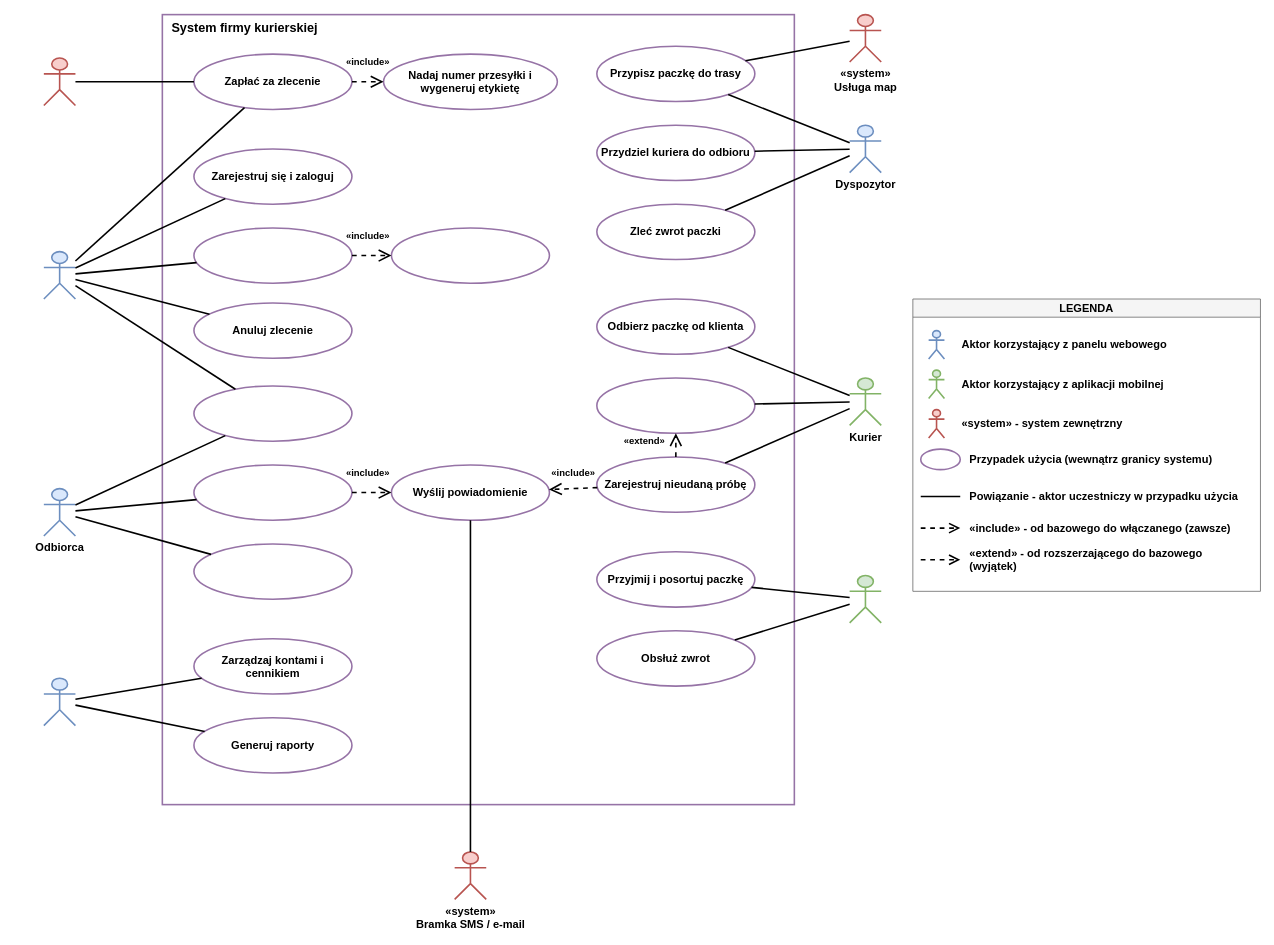
Image size: 1274x945. Some labels were removed from this diagram. Here are the shapes that lost their labels. From the top down, the centre of each, then its label:
the point at 59,81: «system» Bramka płatności
the point at 59,274: Klient (nadawca)
the point at 272,255: Złóż zlecenie
the point at 470,255: Wylicz cenę
the point at 272,413: Śledź przesyłkę
the point at 675,405: Doręcz przesyłkę
the point at 272,492: Potwierdź odbiór
the point at 272,571: Ustal nowy termin doręczenia
the point at 865,598: Magazynier
the point at 59,701: Administrator
